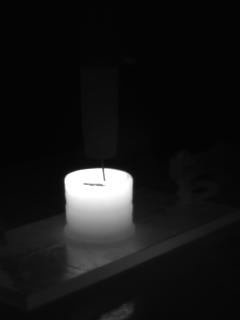tip_wire_left: (85, 154, 106, 185)
tip_wire_right: (103, 153, 118, 185)
